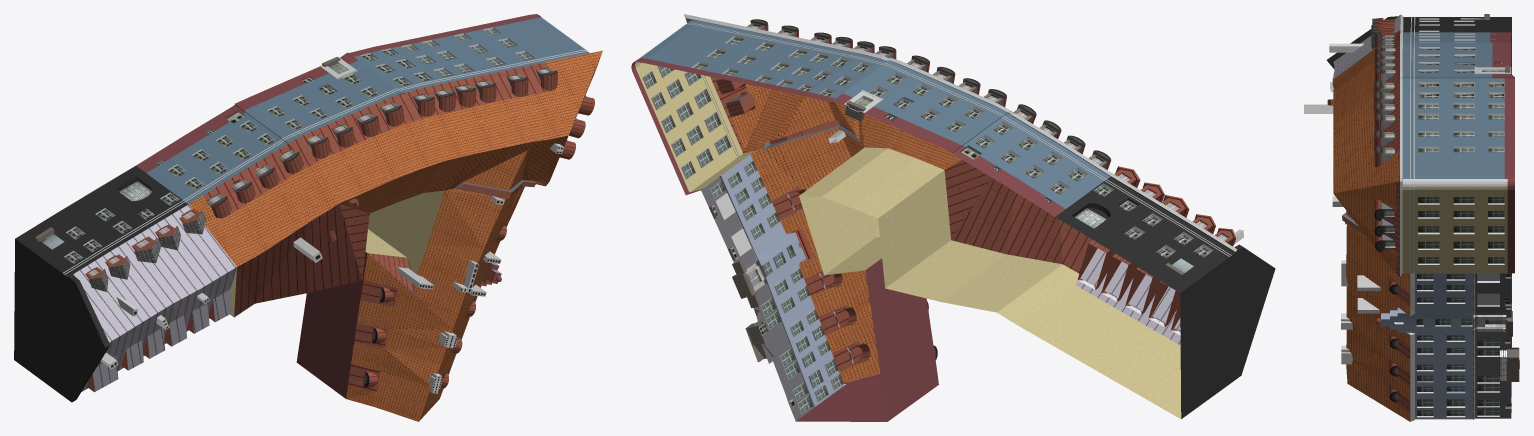
File: Vene_13.obj
3 views of the same model, side by side, from view 1: azimuth 30°, elevation 25°; view 2: azimuth 150°, elevation 25°; view 3: azimuth 270°, elevation 25° (orthographic). The views are drawn at different scales.
Visible parts, largest first — view 1: Vene_13; view 2: Vene_13; view 3: Vene_13.
Part boxes in pixels (x1,y1,x2,y2): Vene_13: (14, 14, 602, 421); Vene_13: (631, 14, 1275, 421); Vene_13: (1304, 14, 1519, 421).
Bounding box in the file's own units: 65.74 × 37.69 × 22.61.
